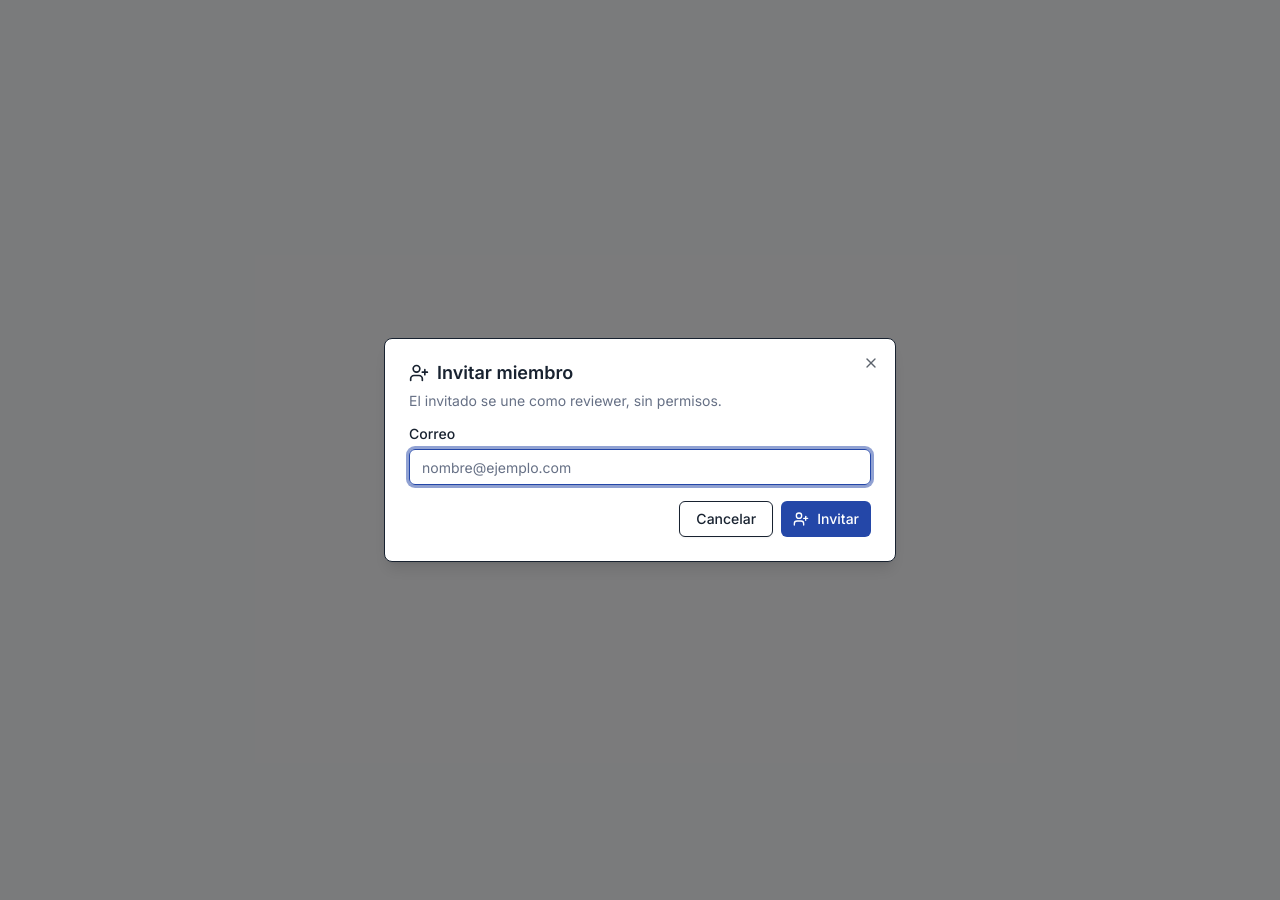
Test: InviteDialog (F3, S9) › email vacío: error zod sin fetch (el email no vacío inválido lo frena el navegador)
Step 1. Click the button "Invitar" → (826, 519), box left=781, top=501, right=871, bottom=537
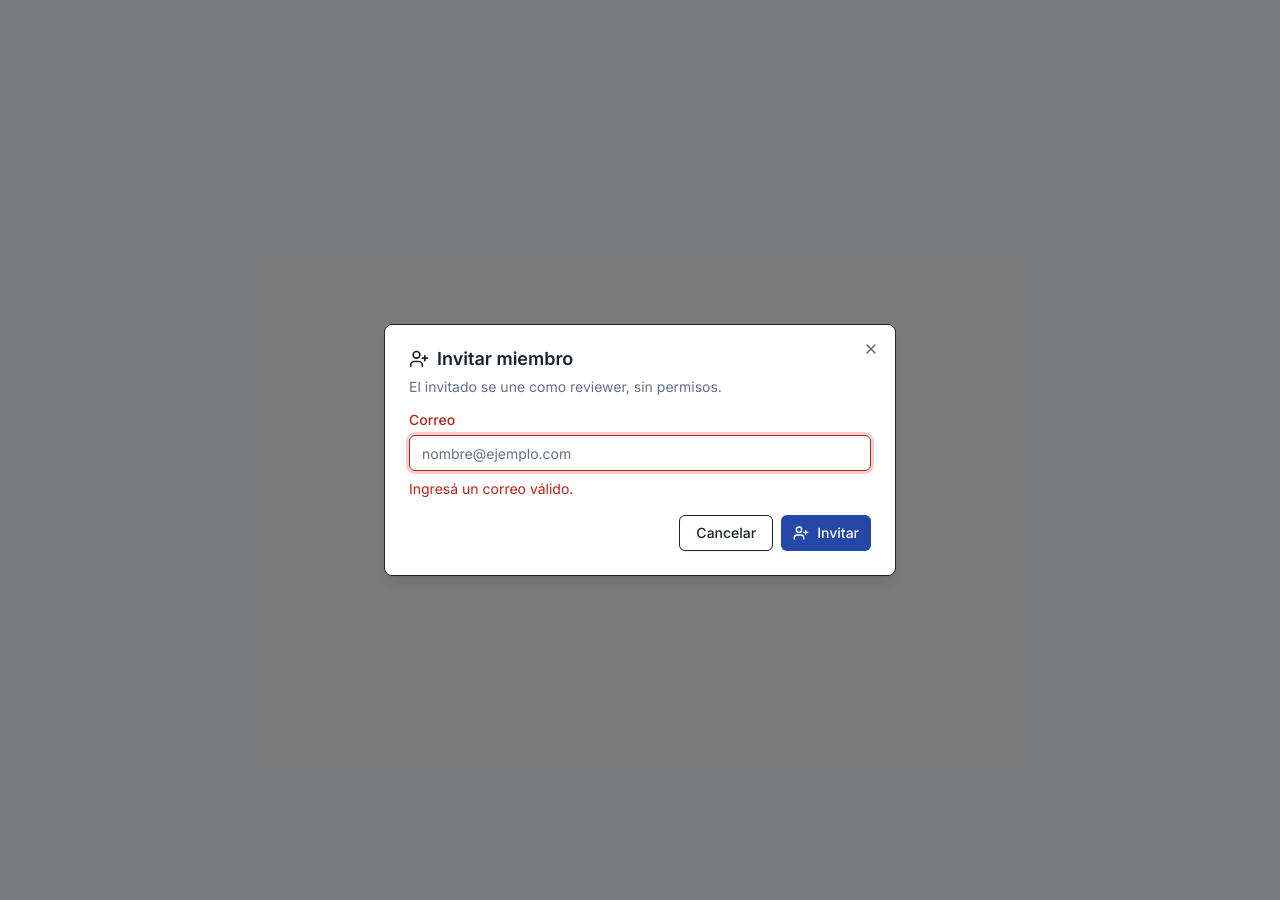
Result: the text "Ingresá un correo válido." is shown at left=409, top=480, right=573, bottom=497
